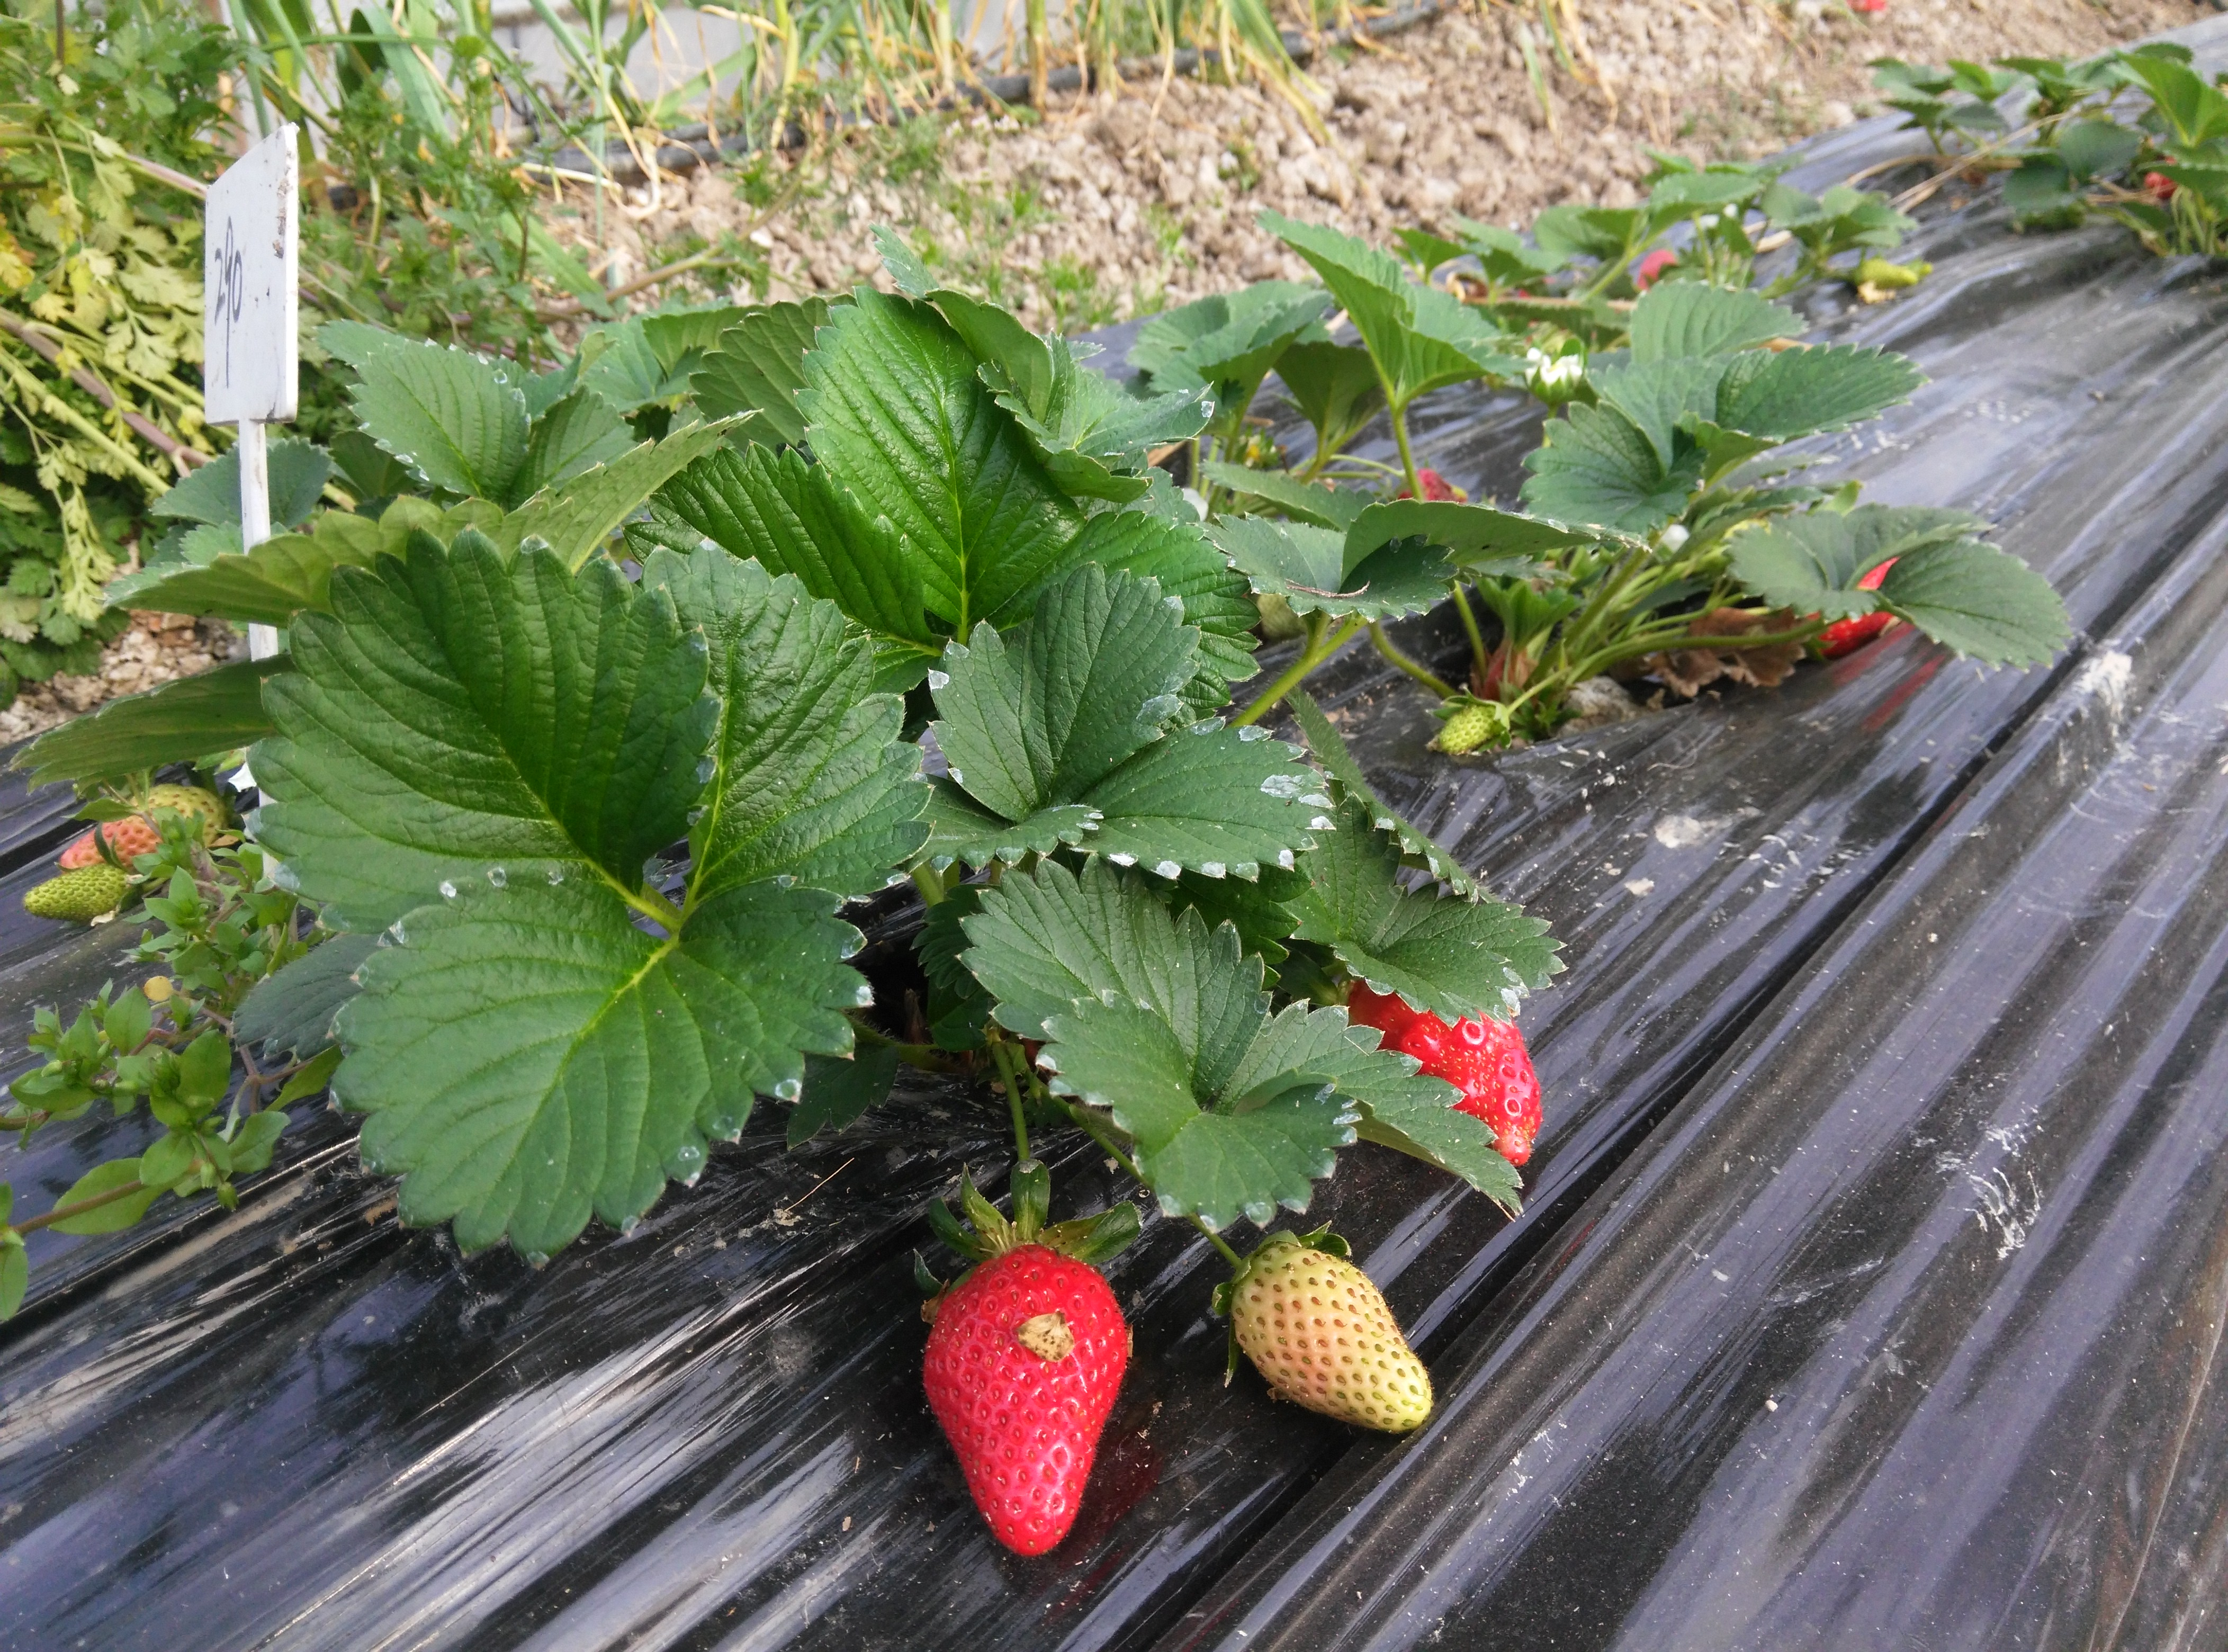StrawberryCone: (906, 1232, 1143, 1576)
StrawberryIrremovable: (1220, 1234, 1442, 1444), (19, 855, 146, 925), (64, 814, 180, 885), (121, 779, 241, 845), (1435, 689, 1524, 760), (1248, 583, 1308, 647), (1857, 246, 1924, 304)
StrawberryOther: (1320, 961, 1555, 1178), (1772, 533, 1928, 672)
StrawberryRemovable: (913, 1232, 1138, 1560), (1326, 961, 1546, 1173), (1780, 536, 1919, 659)
